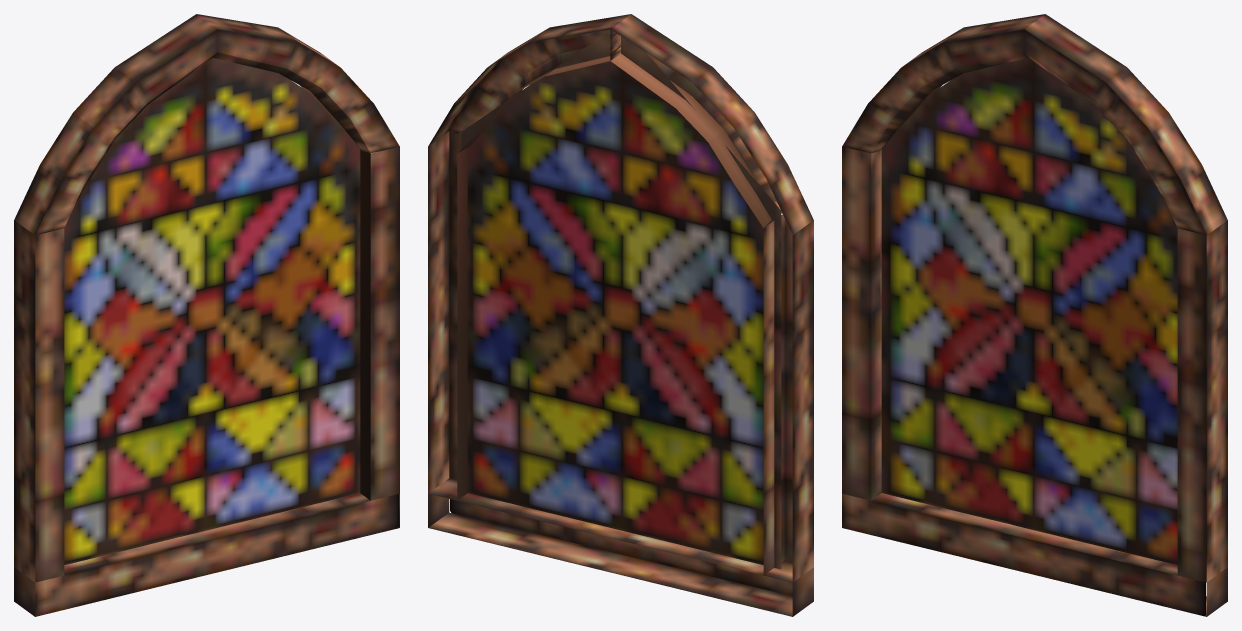
Rendered from Poly_SF_Outside_B_Window_17.obj.
3 views of the same model, side by side, from view 1: azimuth 30°, elevation 25°; view 2: azimuth 150°, elevation 25°; view 3: azimuth 330°, elevation 25° (orthographic).
Visible parts, largest first — view 1: Cube.004, Cube.002, Cube.003, Cube.001; view 2: Cube.004, Cube.002, Cube.003, Cube.001; view 3: Cube.004, Cube.002, Cube.003, Cube.001.
Part boxes in pixels (bbox=[...]): Cube.004: bbox=[64, 58, 360, 564]; Cube.002: bbox=[14, 146, 399, 582]; Cube.003: bbox=[14, 14, 399, 235]; Cube.001: bbox=[14, 493, 399, 616]; Cube.004: bbox=[460, 30, 781, 569]; Cube.002: bbox=[428, 131, 813, 582]; Cube.003: bbox=[428, 14, 813, 234]; Cube.001: bbox=[428, 478, 813, 616]; Cube.004: bbox=[881, 58, 1177, 564]; Cube.002: bbox=[842, 146, 1227, 582]; Cube.003: bbox=[842, 14, 1227, 235]; Cube.001: bbox=[842, 493, 1227, 616].
Size of the model in its own units: 1 by 1.42 by 0.1.
Materials: 1 (1 with a texture image).
